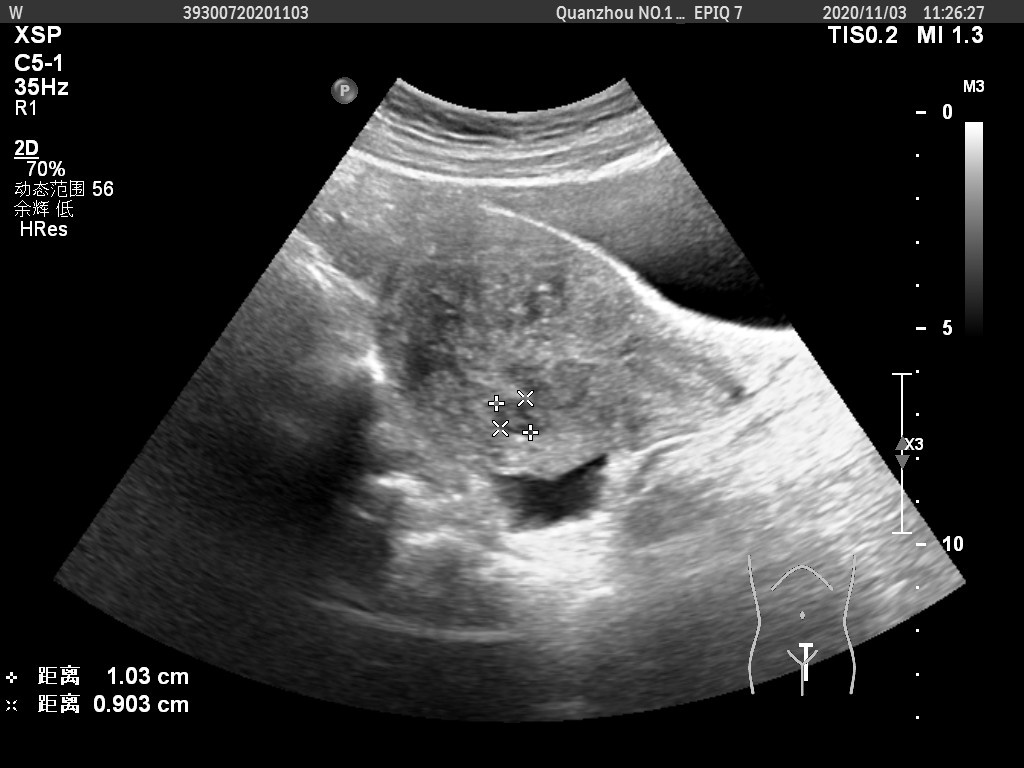肌瘤: (498, 400, 539, 437)
